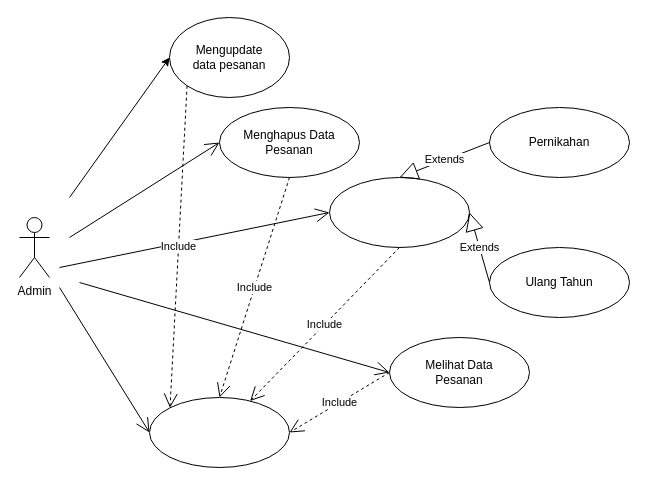
The diagram is 647 pixels wide and 485 high, and some of its shapes have lost their labels. Here are the shapes that lost their labels. From the top down, the centre of each, then its label:
[399,212]: Menambah Pesanan Baru
[219,432]: Login
